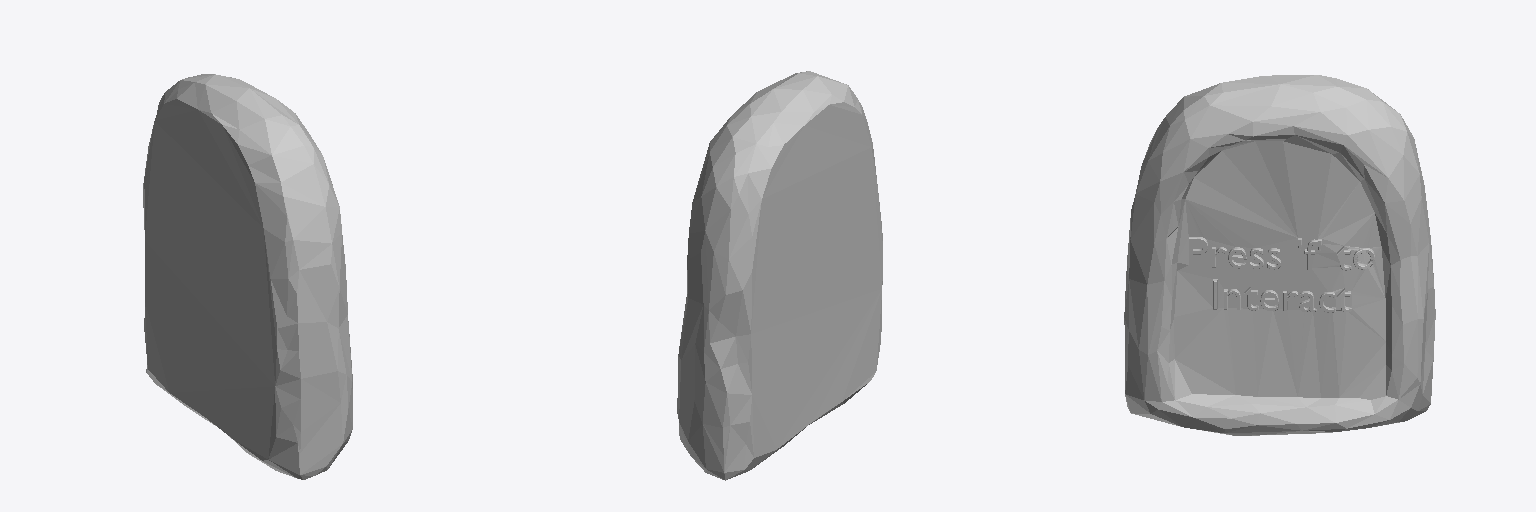
File: pressf.obj
The picture shows the model from 3 angles: view 1: azimuth 30°, elevation 25°; view 2: azimuth 150°, elevation 25°; view 3: azimuth 270°, elevation 25°; orthographic projection.
Parts seen in each view (by area): view 1: Cube; view 2: Cube; view 3: Cube.
Part boxes in pixels (left/top/right/bottom): Cube: left=143, top=74, right=352, bottom=479; Cube: left=677, top=71, right=882, bottom=480; Cube: left=1124, top=75, right=1435, bottom=435.
Size of the model in its own units: 1.44 by 4.8 by 4.01.